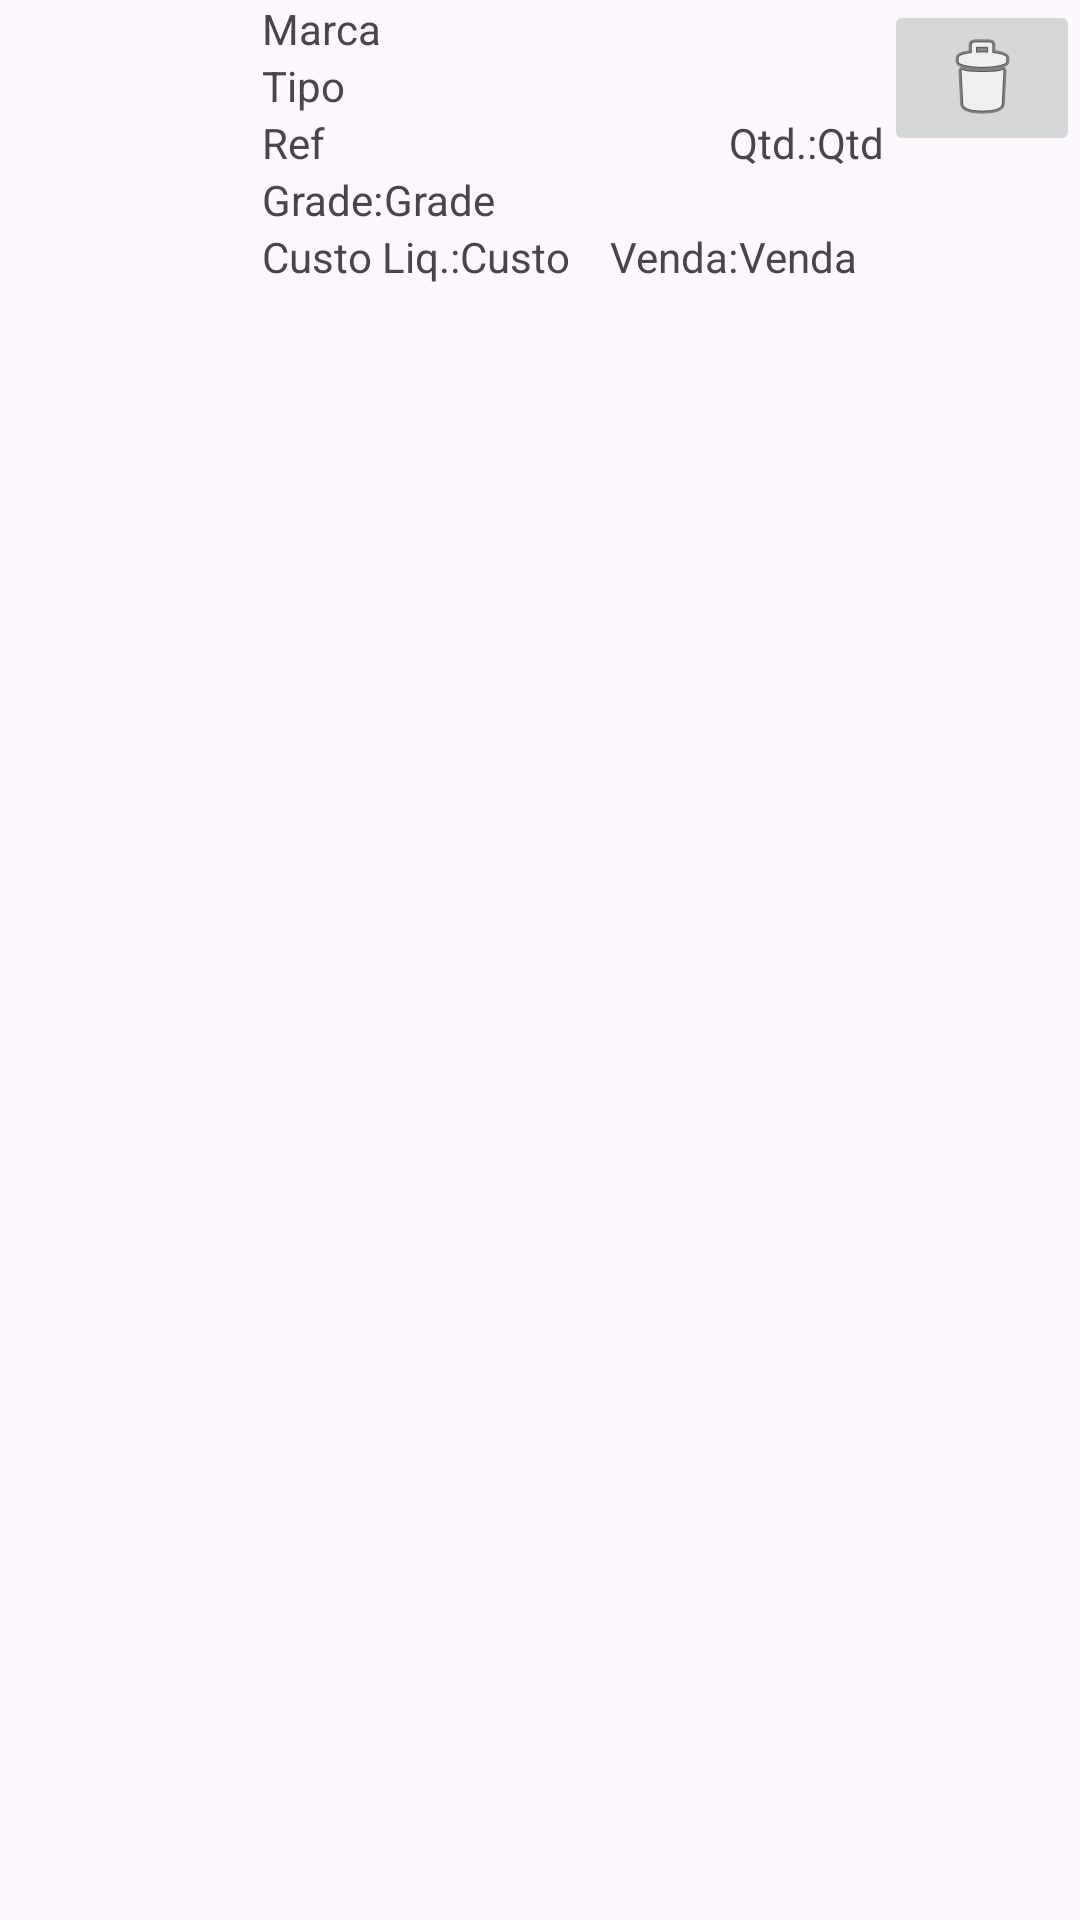

Locate icon controls on the screen. Image size 1080px×1920px, boxes as BBox(x1, y1, x2, y2).
delete: BBox(896, 18, 1068, 138)
